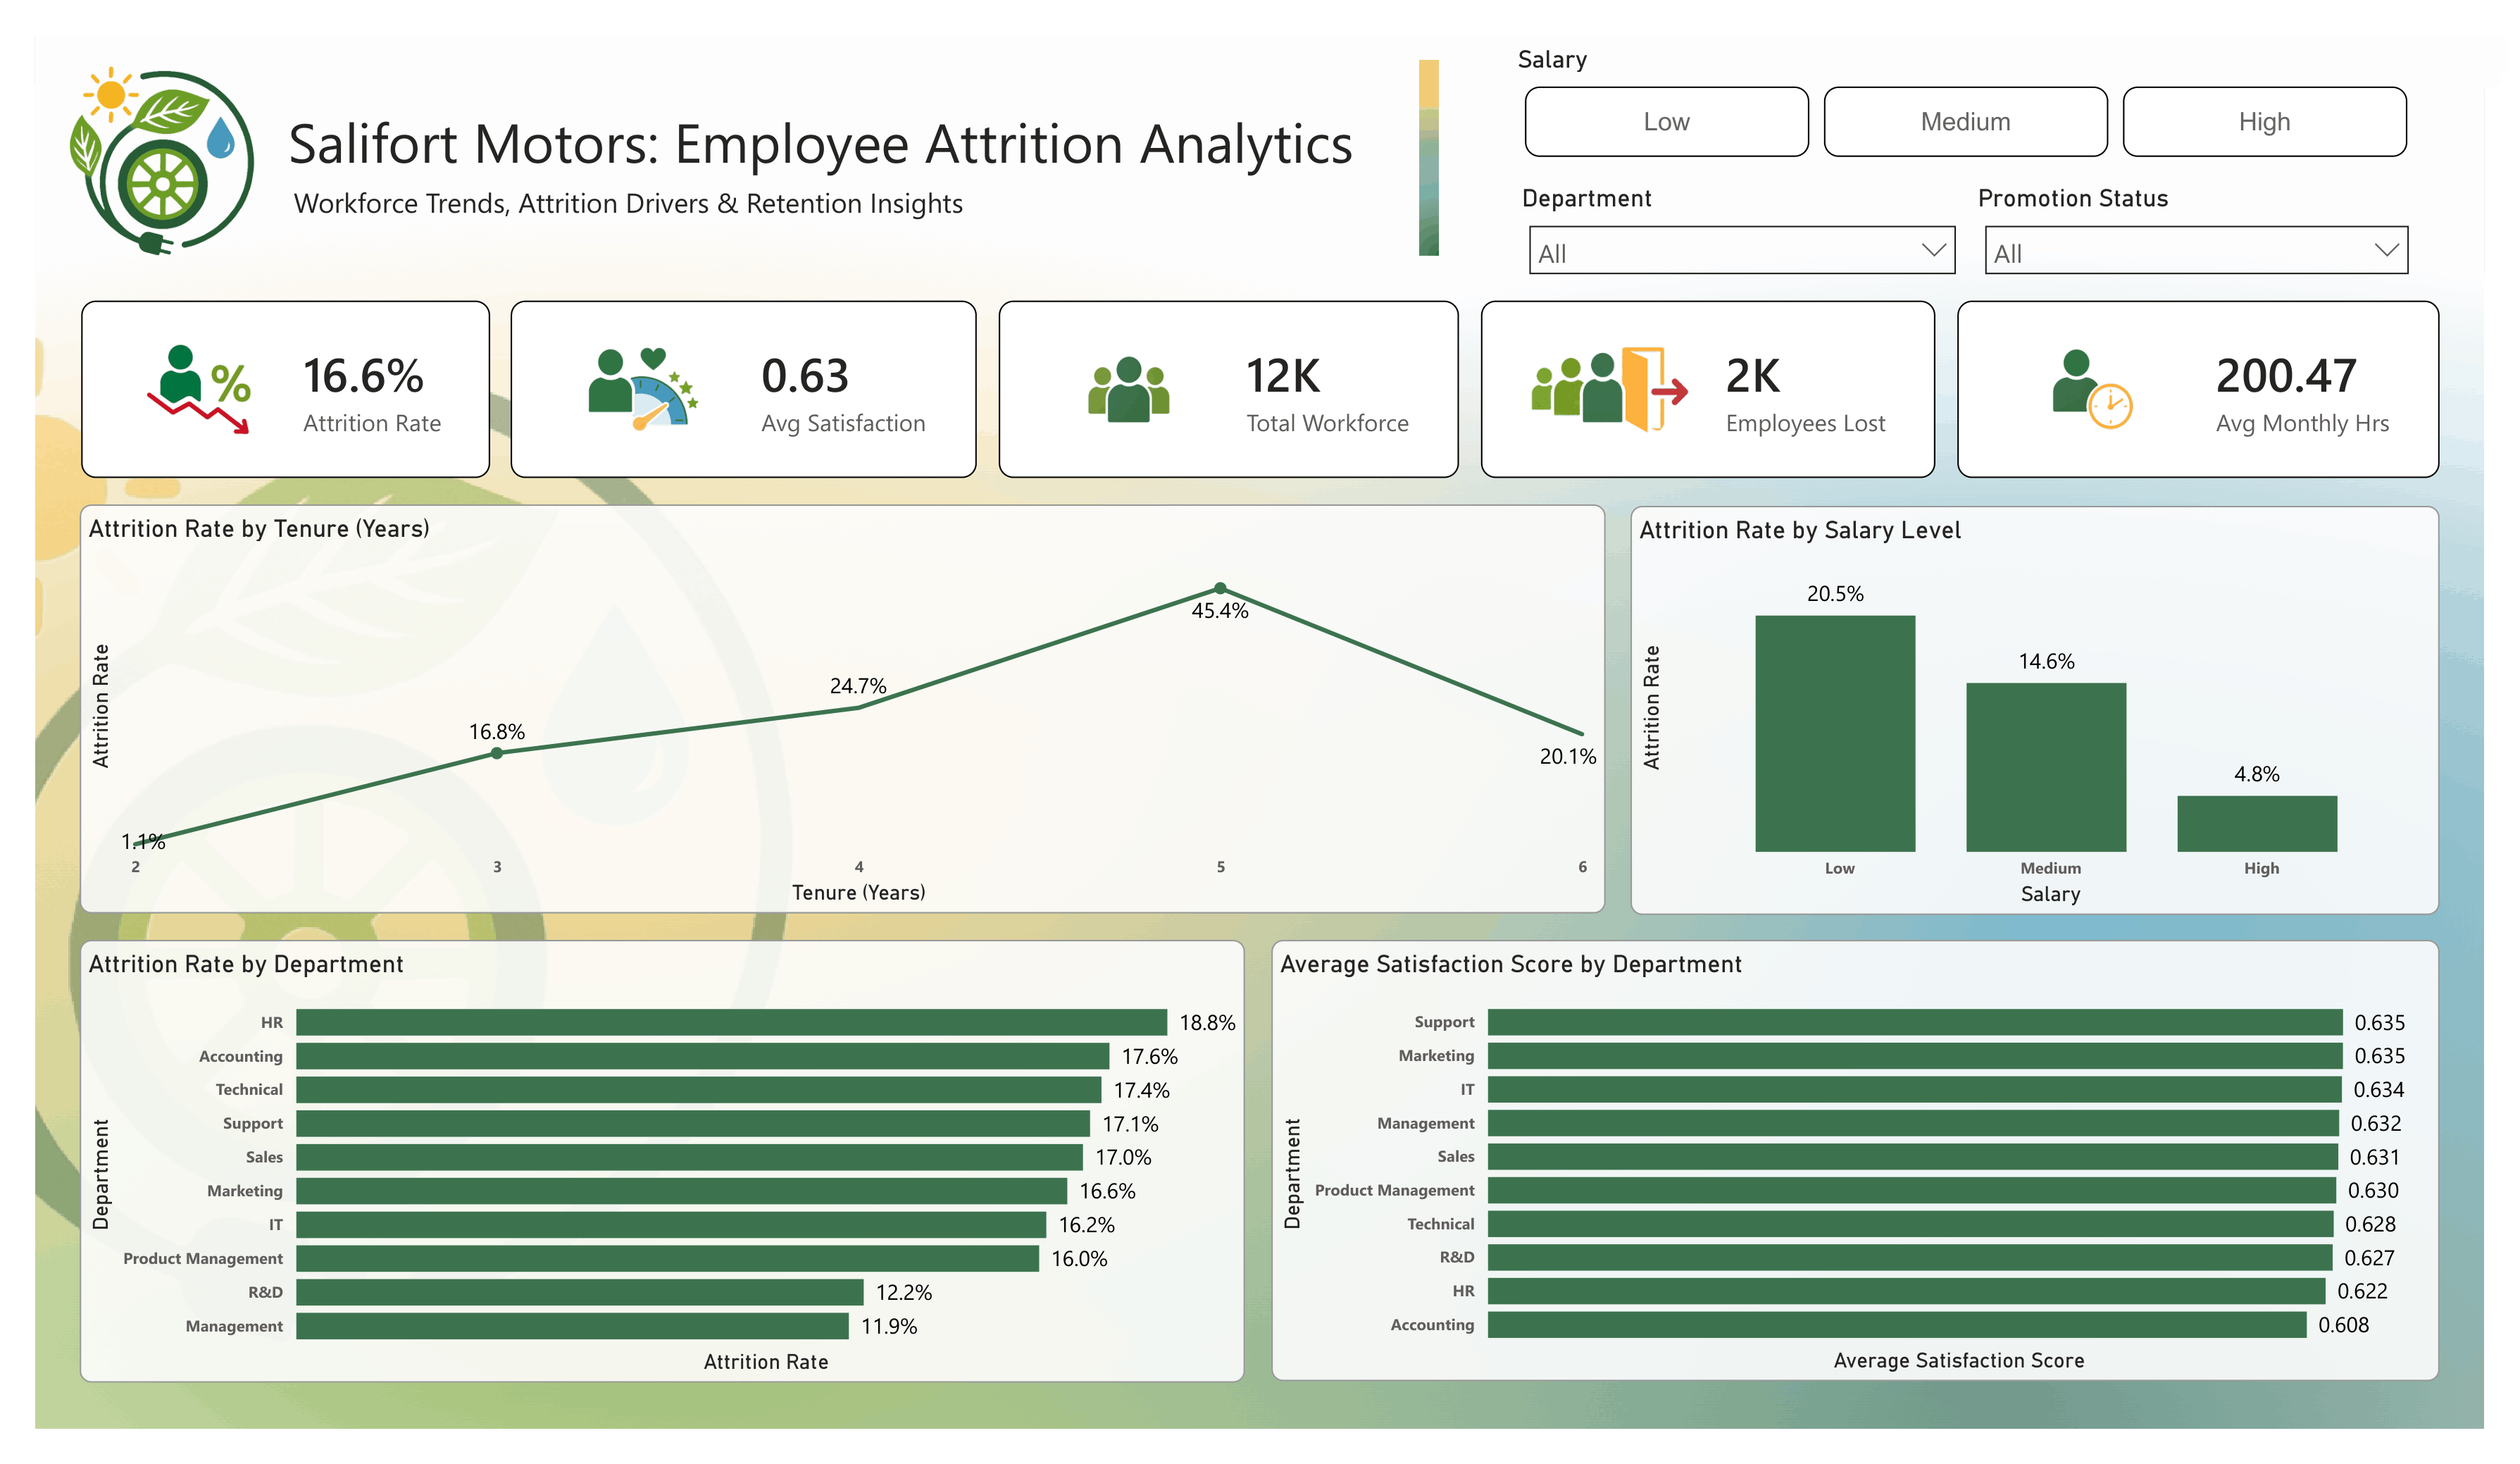

What the dashboard file says about the page in this screenshot:
{"tool":"powerbi","page":{"name":"Executive Overview","canvas":[1670,950],"ordinal":0},"visuals":[{"type":"textbox","box":[167,42.2,759.8,78.8],"z":0},{"type":"textbox","box":[170.8,95.8,480.8,35],"z":1000},{"type":"image","box":[13.1,17.2,145.3,138.1],"z":2000},{"type":"cardVisual","fields":{"Data":["Employee Attrition Data.Total Employees"]},"box":[656.7,180.9,314.4,121],"z":3000},{"type":"cardVisual","fields":{"Data":["Employee Attrition Data.Employees Left"]},"box":[985.1,180.9,310.3,121],"z":4000},{"type":"cardVisual","fields":{"Data":["Employee Attrition Data.Average Monthly Hours"]},"box":[1310.6,180.9,329.7,121],"z":5000},{"type":"clusteredColumnChart","title":"Attrition Rate by Salary Level","fields":{"Category":["Employee Attrition Data.Salary"],"Y":["Employee Attrition Data.Attrition Rate %"]},"box":[1088.1,320.6,551.9,279.4],"z":6000},{"type":"clusteredBarChart","title":"Average Satisfaction Score by Department","fields":{"Category":["Employee Attrition Data.Department"],"Y":["Avg(Employee Attrition Data.Satisfaction Level)"]},"box":[843.2,616.8,797.2,301.7],"z":7000},{"type":"slicer","title":"Department","fields":{"Values":["Employee Attrition Data.Department"]},"box":[1008.8,100.7,311.4,73.6],"z":8000},{"type":"image","box":[943.6,16.7,13.7,133.5],"z":9000},{"type":"ChicletSlicer1448559807354","title":"Salary","fields":{"Category":["Employee Attrition Data.Salary"]},"box":[1005.9,6.4,623.6,94.3],"z":10000},{"type":"slicer","title":"Promotion Status","fields":{"Values":["Employee Attrition Data.Promotion Status"]},"box":[1320.2,100.7,309.3,73],"z":11000},{"type":"image","box":[0,180.7,545,737.1],"z":12000},{"type":"clusteredBarChart","title":"Attrition Rate by Department","fields":{"Category":["Employee Attrition Data.Department"],"Y":["Employee Attrition Data.Attrition Rate %"]},"box":[30.3,617.5,795,301.9],"z":13000},{"type":"lineChart","title":"Attrition Rate by Tenure (Years)","fields":{"Category":["Employee Attrition Data.Tenure"],"Y":["Employee Attrition Data.Attrition Rate %"]},"box":[30.3,320.1,1040.7,279.1],"z":14000},{"type":"cardVisual","fields":{"Data":["Employee Attrition Data.Attrition Rate %"]},"box":[30.6,180.6,279,121.2],"z":15000},{"type":"cardVisual","fields":{"Data":["Employee Attrition Data.Average Satisfaction"]},"box":[325.6,180.9,318.6,121],"z":16000}]}

Visuals, with their boxes on the page's 1670x950 design canvas (x1, y1, x2, y2). These are canvas units, not pixel positions in the 2520x1464 screenshot, which may show the page scaled, cropped or inside an application window:
textbox: 167,42,927,121
textbox: 171,96,652,131
image: 13,17,158,155
cardVisual - Employee Attrition Data.Total Employees: 657,181,971,302
cardVisual - Employee Attrition Data.Employees Left: 985,181,1295,302
cardVisual - Employee Attrition Data.Average Monthly Hours: 1311,181,1640,302
"Attrition Rate by Salary Level" clusteredColumnChart: 1088,321,1640,600
"Average Satisfaction Score by Department" clusteredBarChart: 843,617,1640,918
"Department" slicer: 1009,101,1320,174
image: 944,17,957,150
"Salary" ChicletSlicer1448559807354: 1006,6,1630,101
"Promotion Status" slicer: 1320,101,1630,174
image: 0,181,545,918
"Attrition Rate by Department" clusteredBarChart: 30,618,825,919
"Attrition Rate by Tenure (Years)" lineChart: 30,320,1071,599
cardVisual - Employee Attrition Data.Attrition Rate %: 31,181,310,302
cardVisual - Employee Attrition Data.Average Satisfaction: 326,181,644,302
